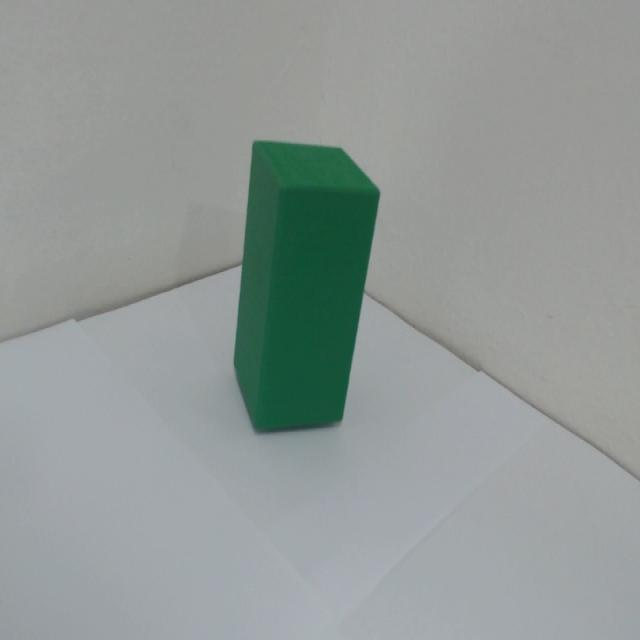cube: (206, 162, 430, 467)
